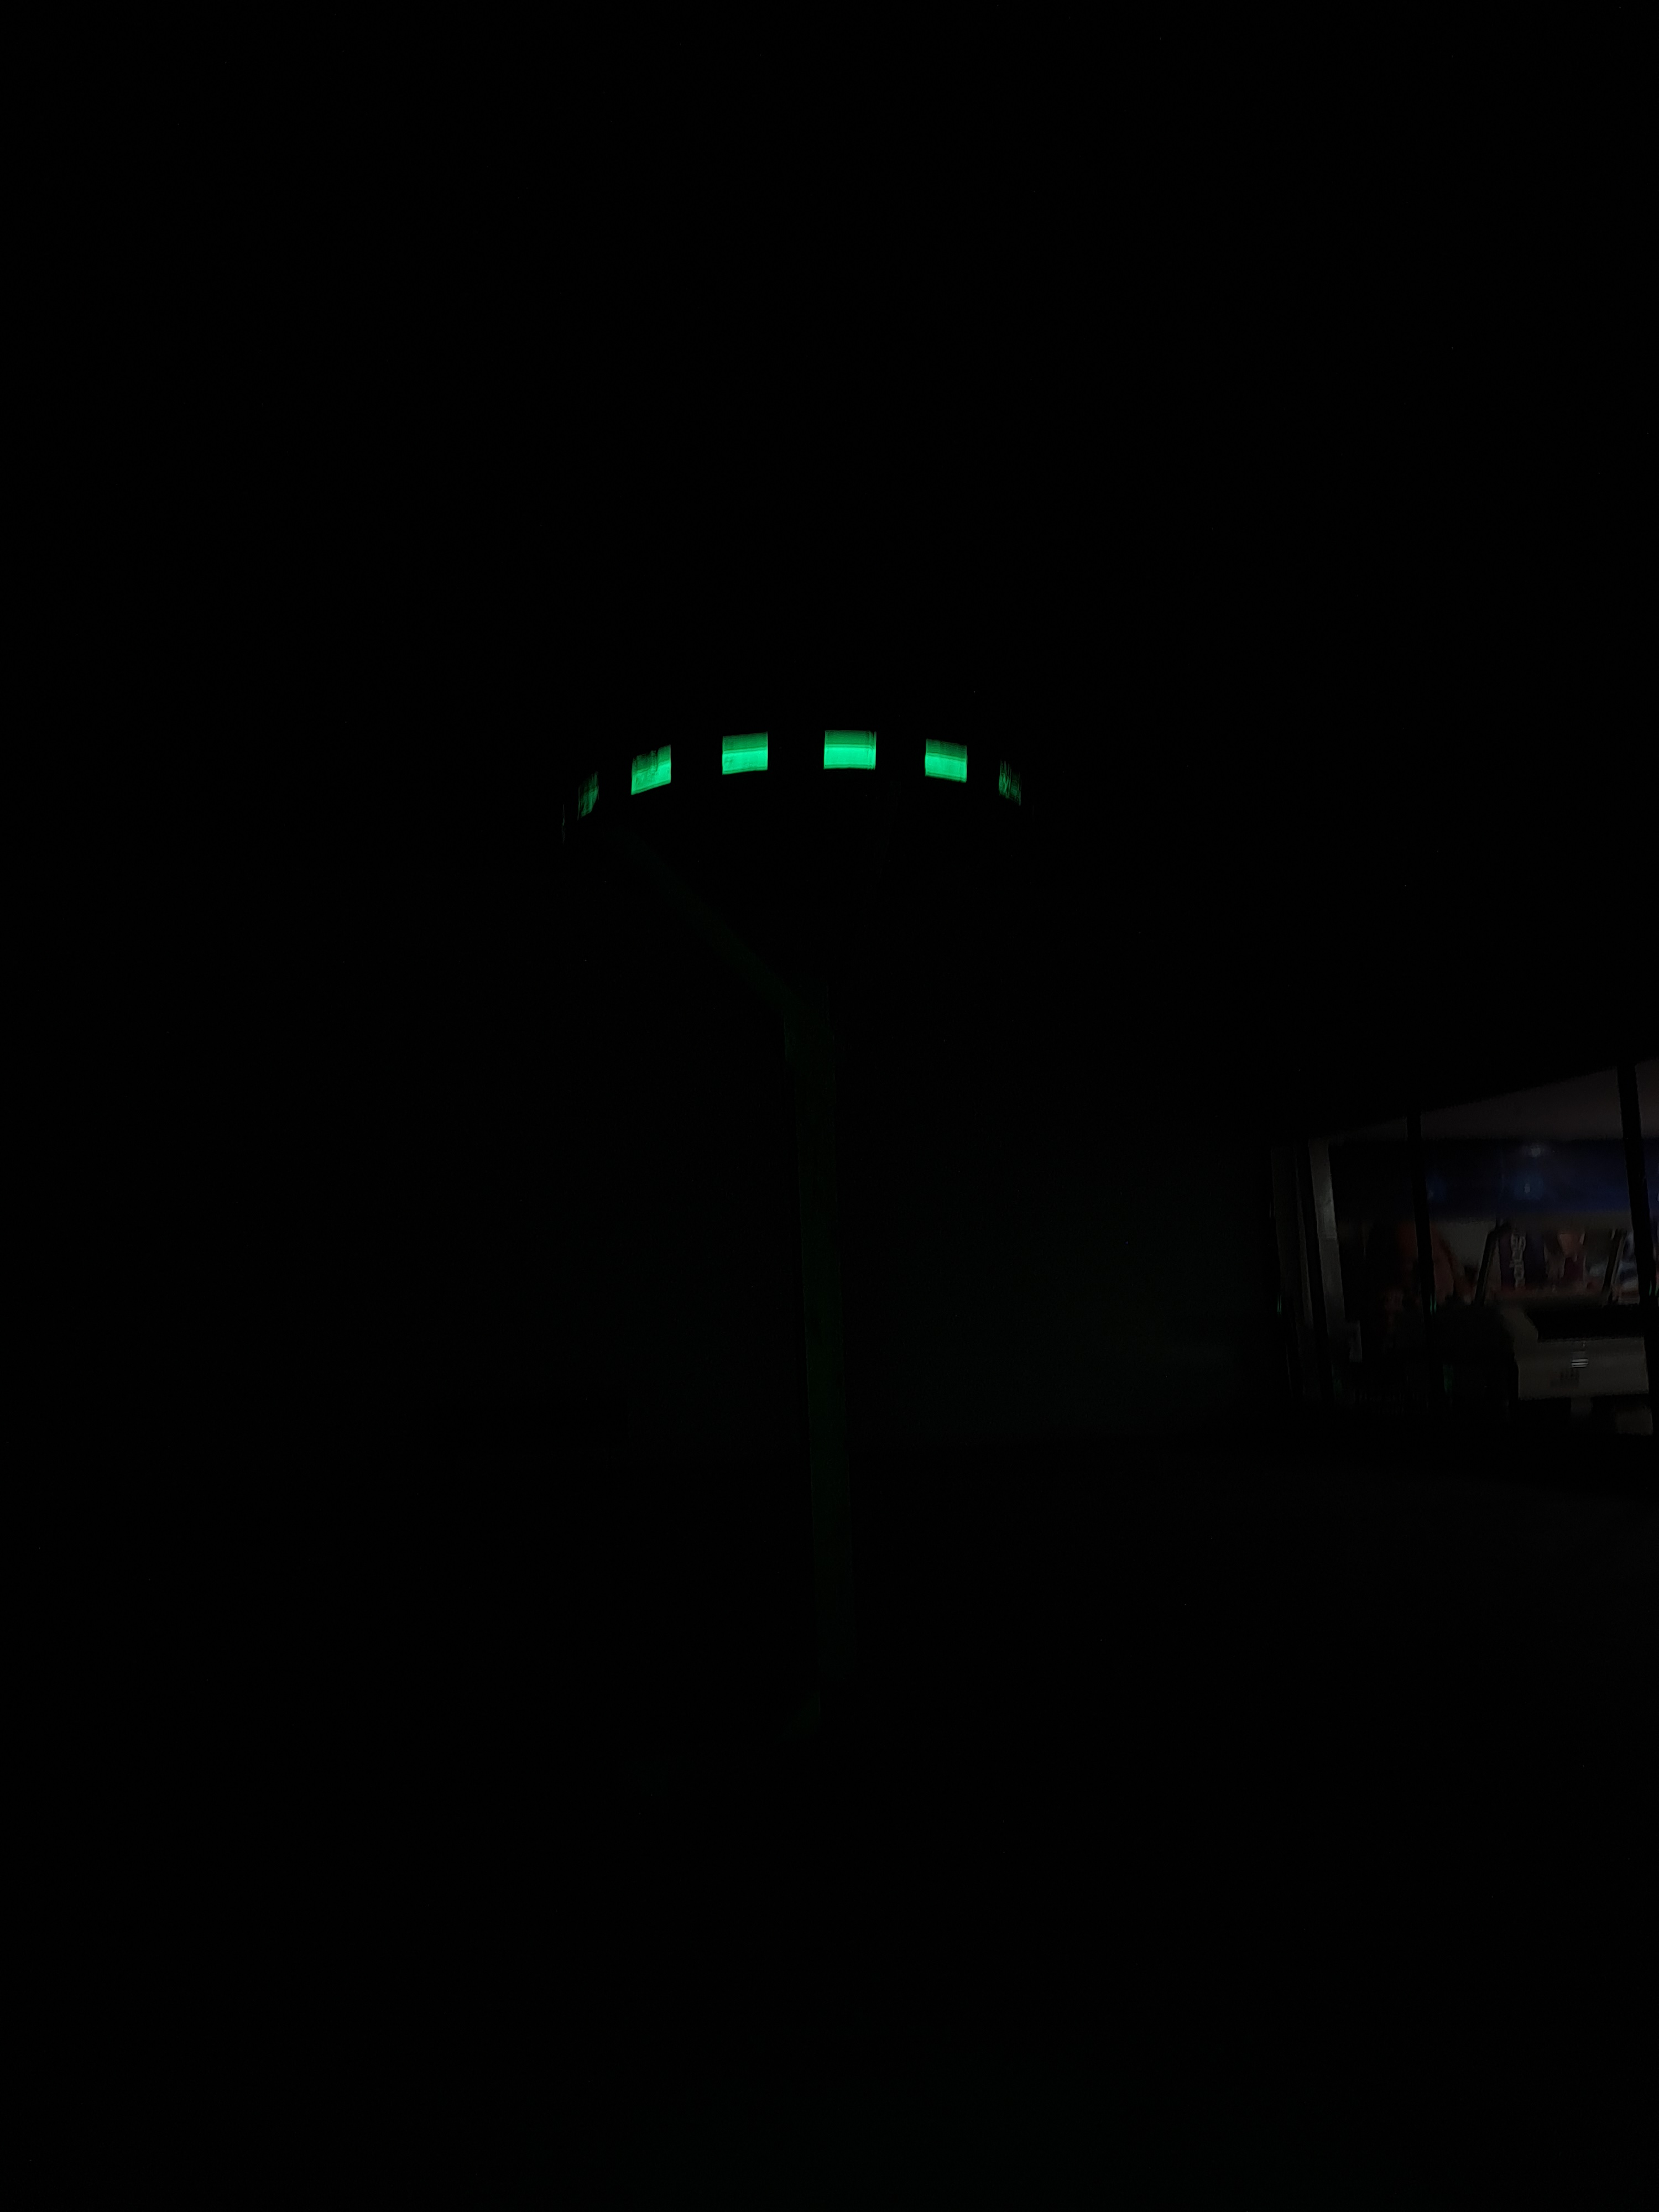hoop: (535, 737, 1054, 820)
